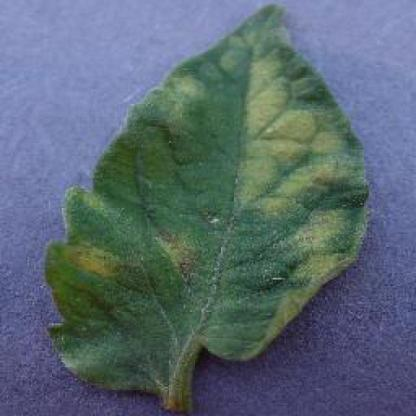Tomato_Leaf_Mold: (53, 8, 368, 387)
